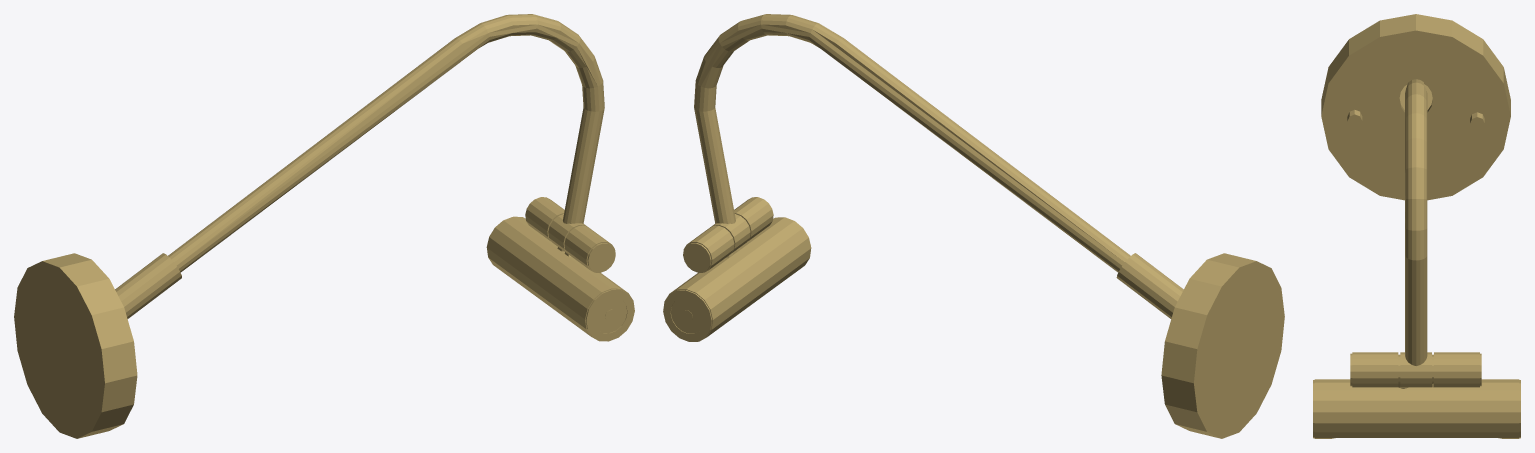
File: wallLight.glb
The picture shows the model from 3 angles, left to right: view 1: azimuth 30°, elevation 25°; view 2: azimuth 150°, elevation 25°; view 3: azimuth 270°, elevation 25°; orthographic projection. The views are drawn at different scales.
Parts seen in each view (by area): view 1: gold_lambert3_0; view 2: gold_lambert3_0; view 3: gold_lambert3_0.
Part boxes in pixels (x1,y1,x2,y2): gold_lambert3_0: (14,14,634,438); gold_lambert3_0: (663,14,1284,438); gold_lambert3_0: (1313,14,1520,438).
Bounding box in the file's own units: 0.5518 × 0.2978 × 0.1752.
